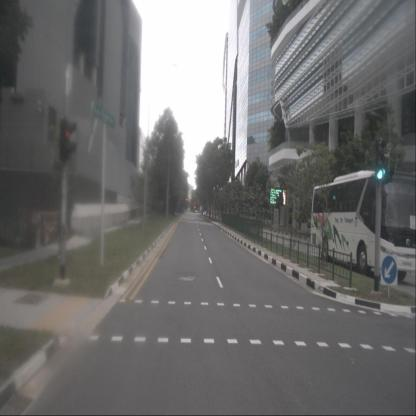vehicle-bus-rigid: (310, 170, 416, 282)
